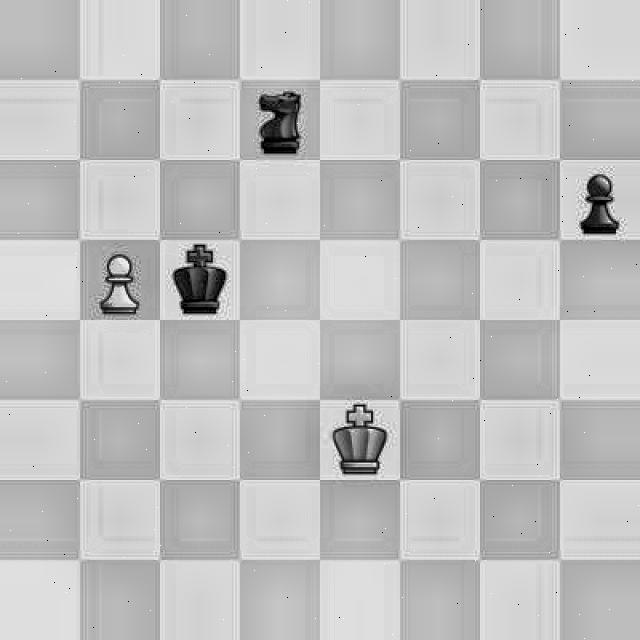Black Knight: (248, 83, 315, 159)
black king: (166, 243, 242, 317)
black pawn: (562, 170, 640, 240)
white king: (329, 405, 400, 479)
white pawn: (90, 250, 150, 318)
